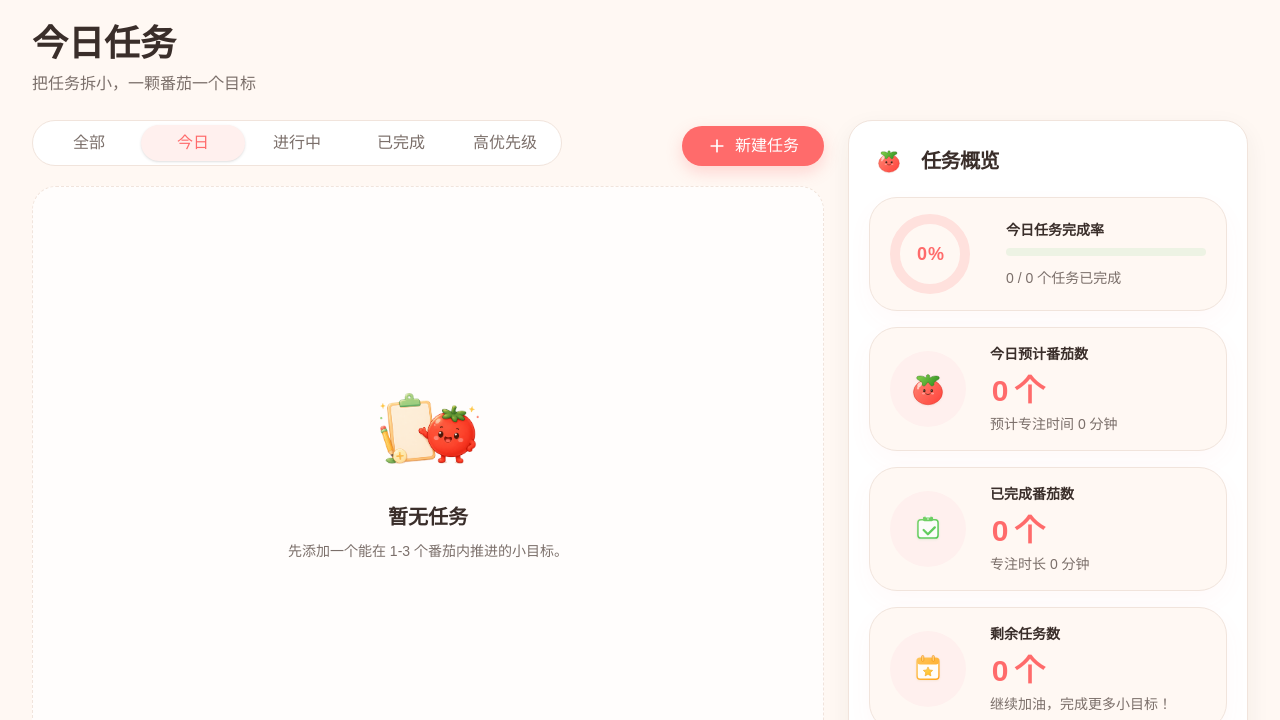
Test: TaskManagement › opens the task drawer and creates a task
Click the button "新建任务".
click(753, 146)  # box [682, 126, 824, 166]
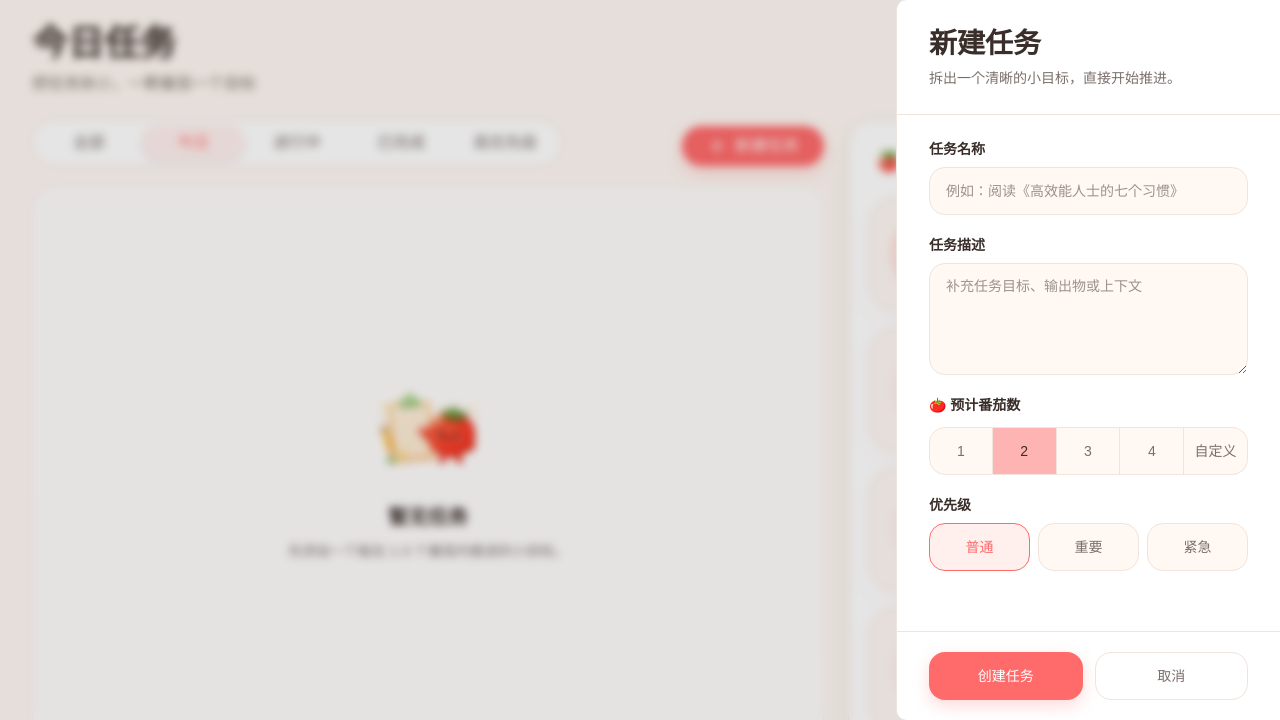
Type "实现番茄钟计时功能" into the field with placeholder "例如：阅读《高效能人士的七个习惯》".
click(1088, 191); type("实现番茄钟计时功能")  # box [929, 167, 1248, 215]
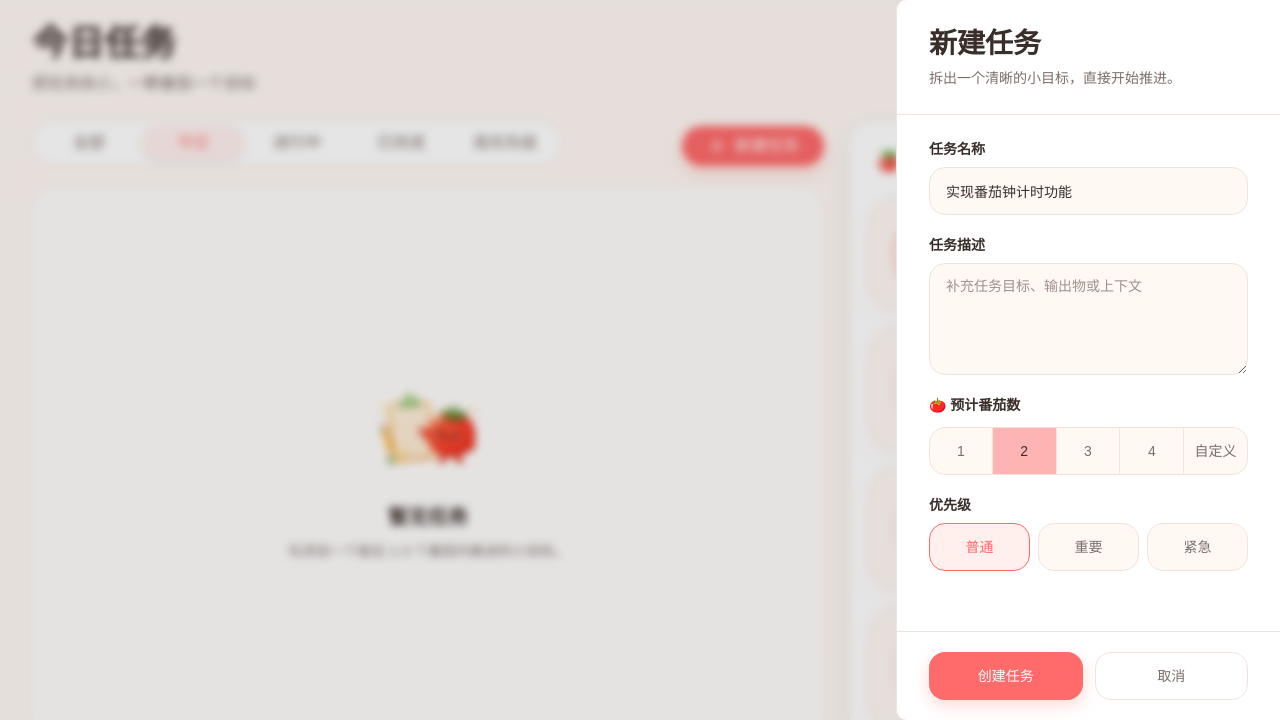
Click the button "创建任务".
click(1006, 676)  # box [929, 652, 1082, 700]
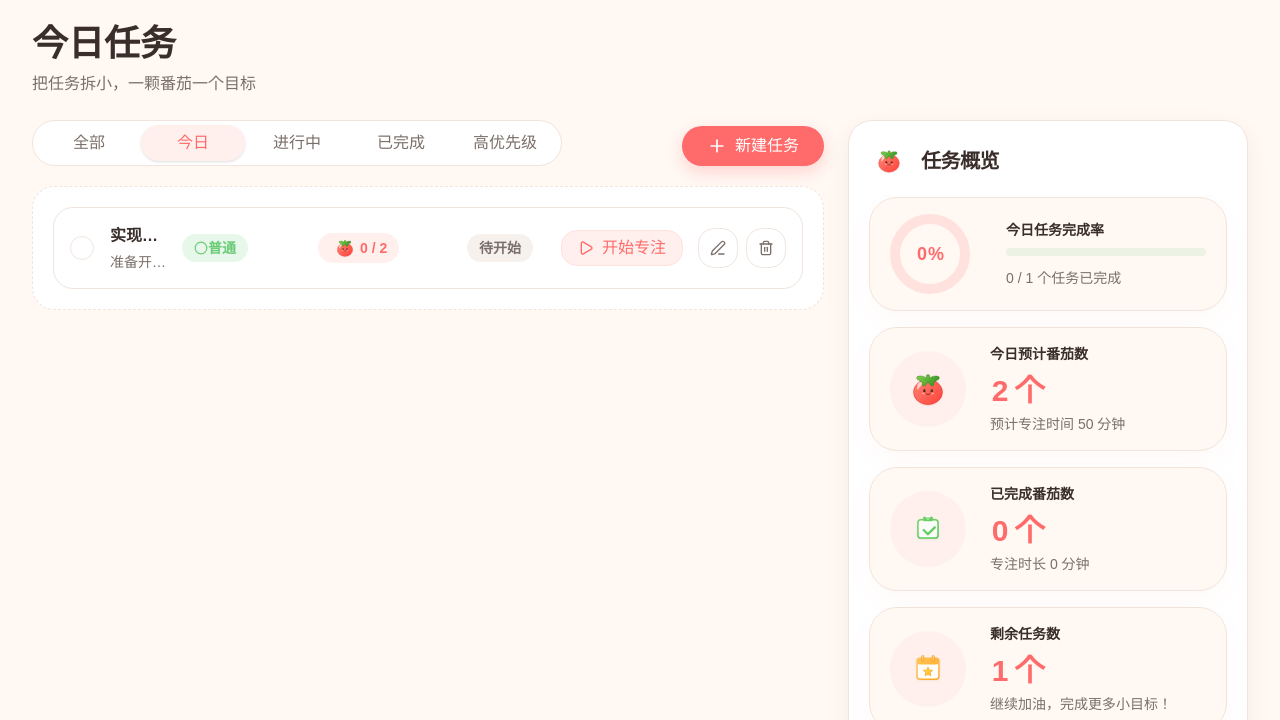
Expected: the heading "实现番茄钟计时功能" is shown, [110, 224, 166, 248]
